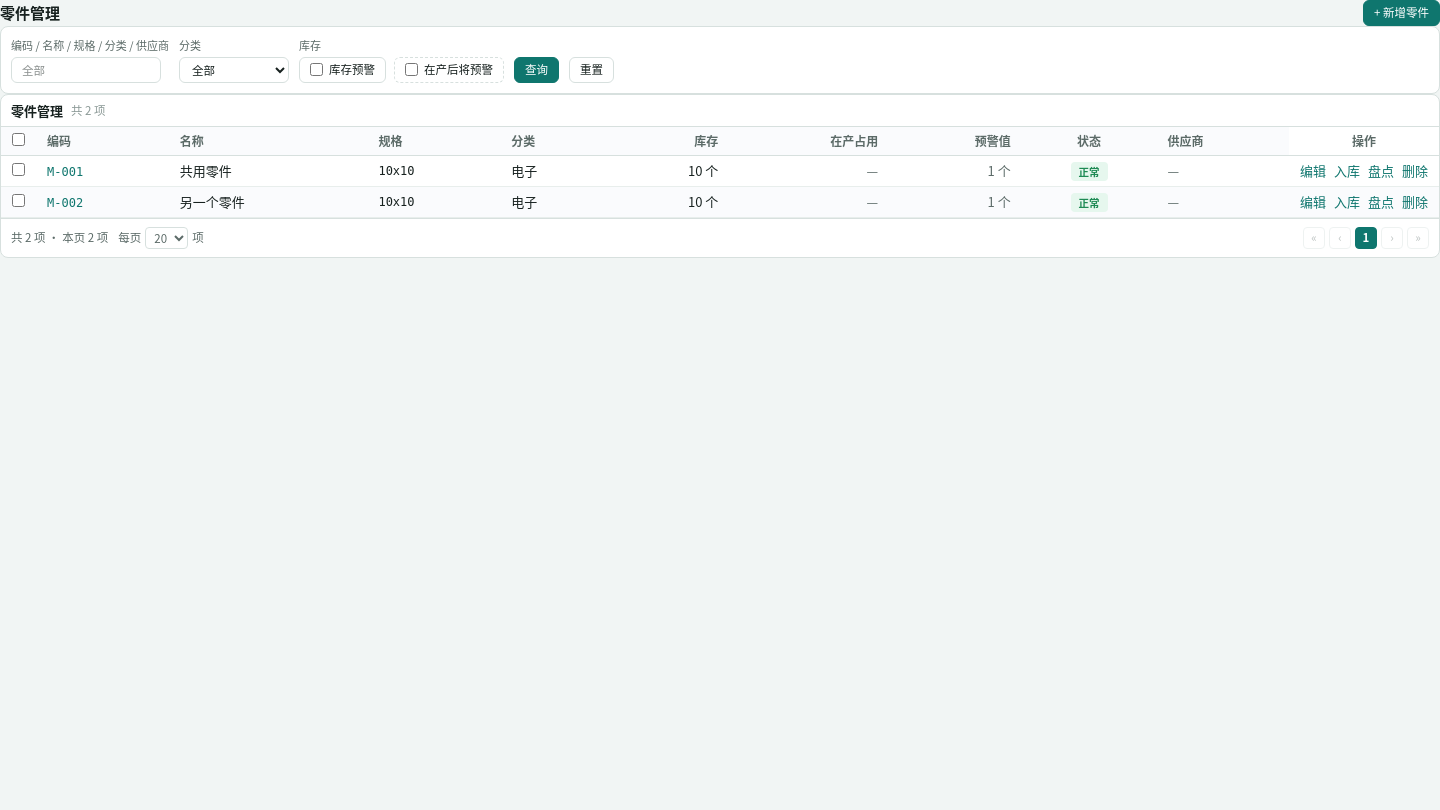
Scenario: stops a batch delete at the first BOM-referenced part
Click the checkbox named "选择 M-001".
click(18, 170)  # box [12,163,25,176]
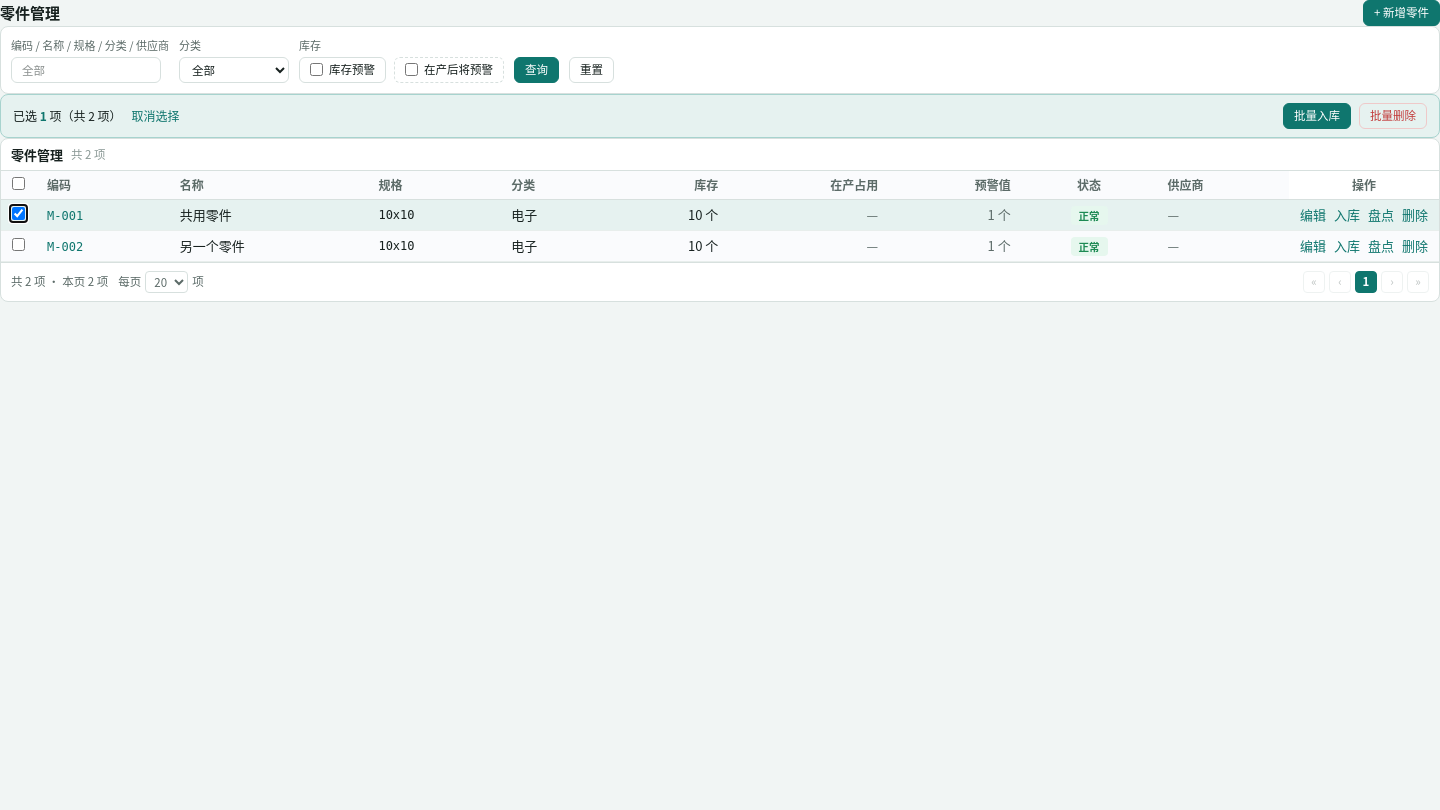
Click the checkbox named "选择 M-002".
click(18, 245)  # box [12,238,25,251]
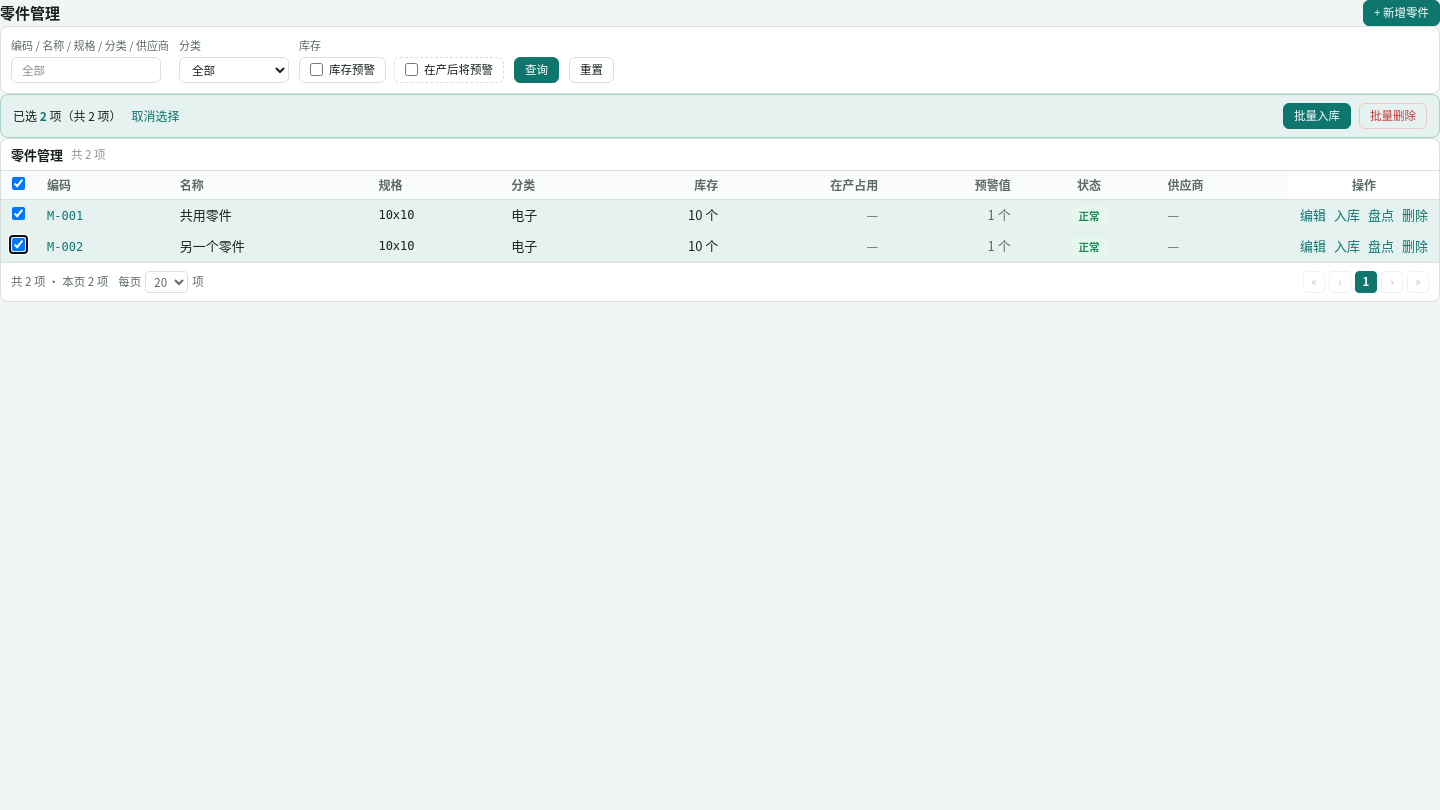
Click the button "批量删除".
click(1393, 116)  # box [1359,102,1427,128]
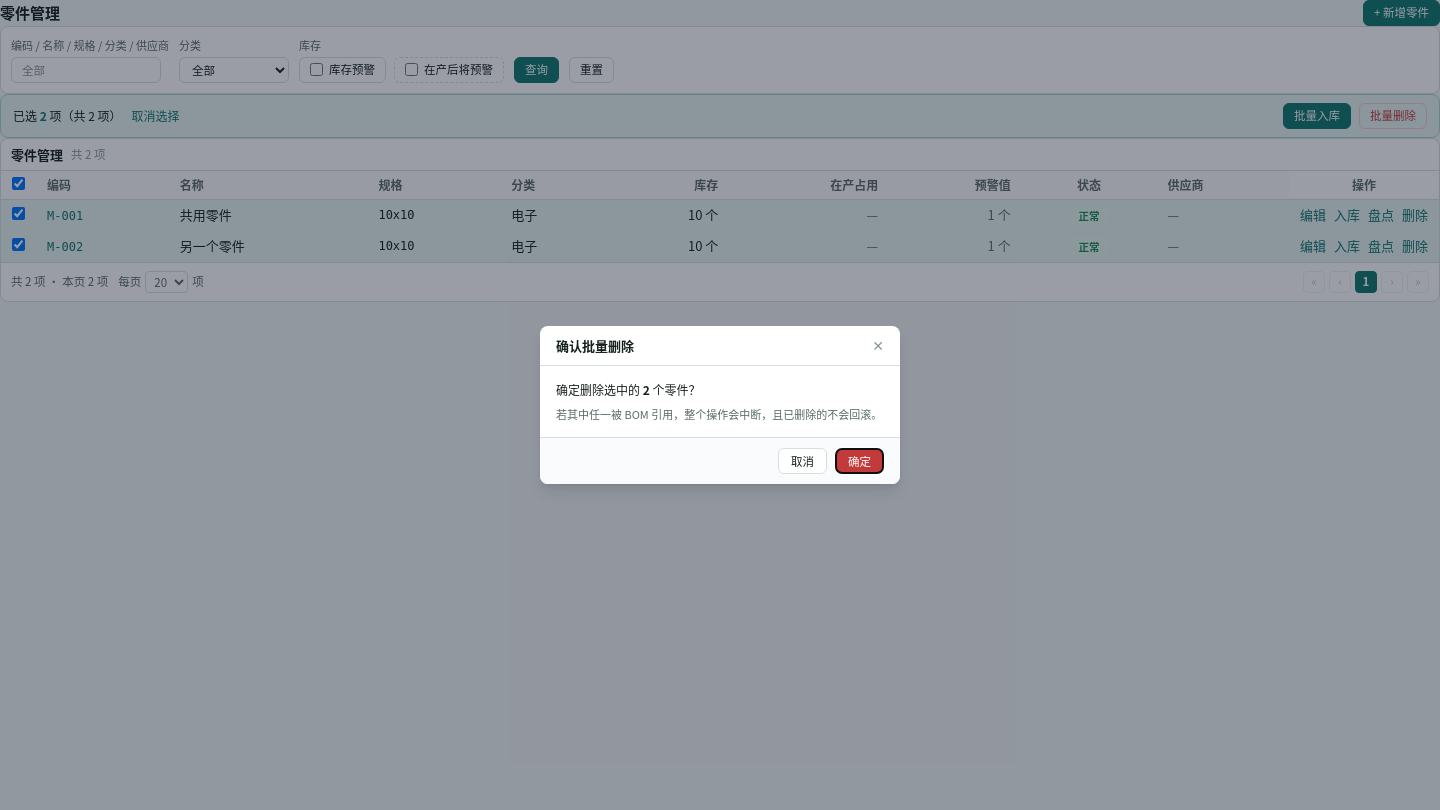
Click the button "确定".
click(860, 461)  # box [835,448,884,474]
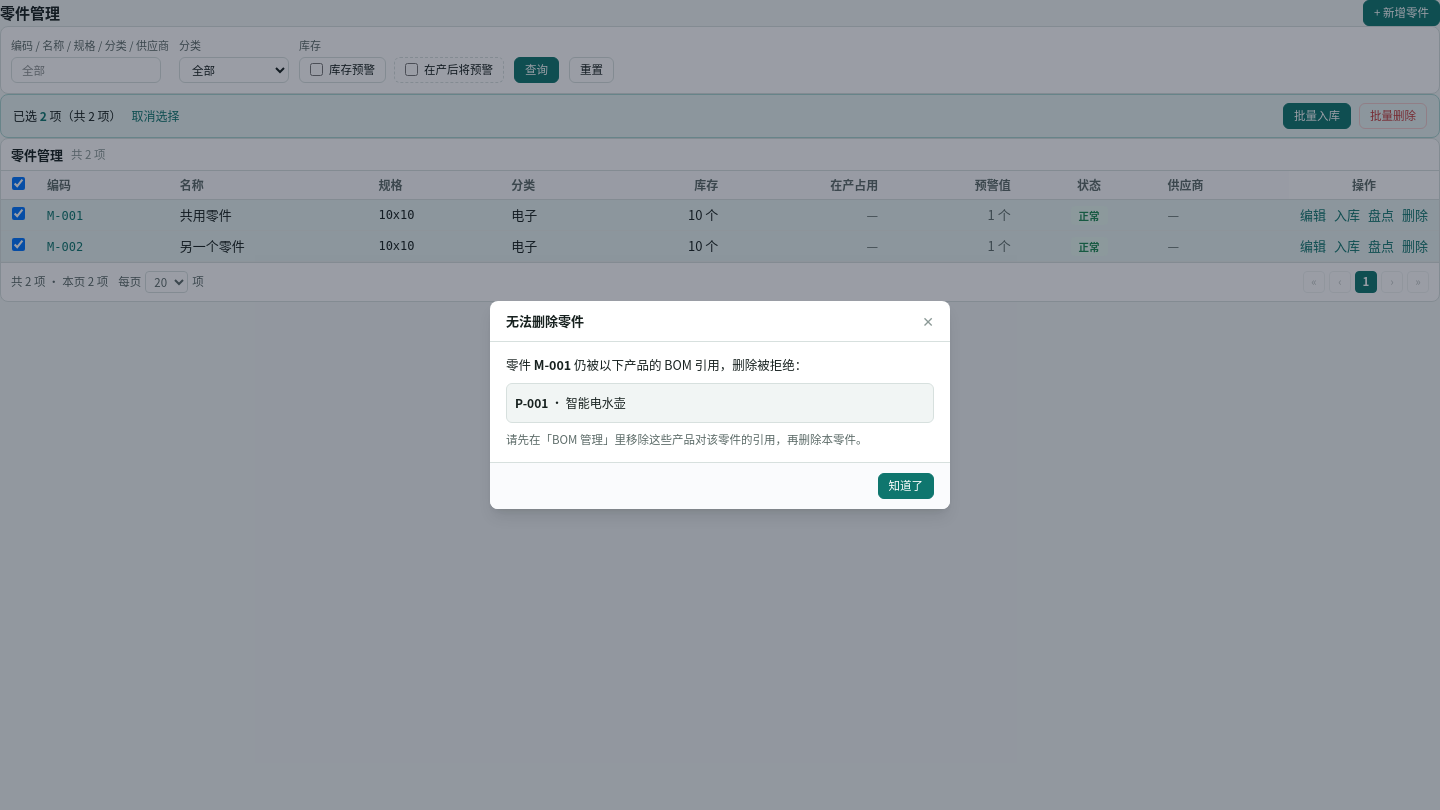
Result: the list named "引用该零件的产品" shows "P-001" at [515,394,548,410]
